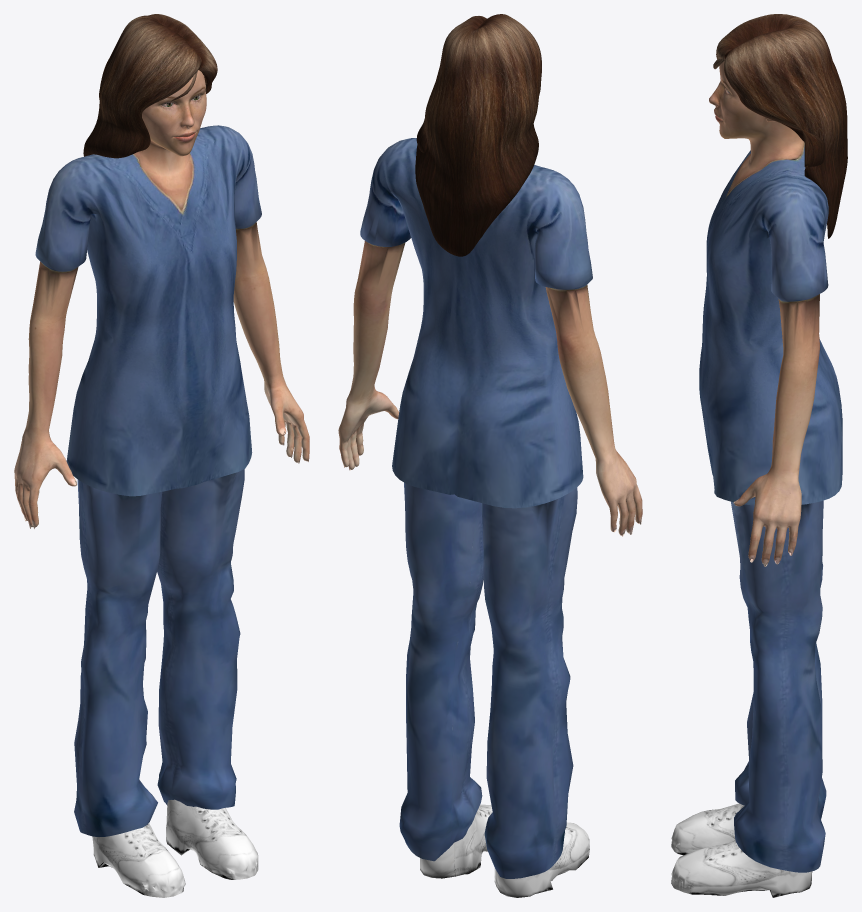
File: ORBIT-crew-member.glb
3 renders of one model, left to right at view 1: azimuth 30°, elevation 25°; view 2: azimuth 150°, elevation 25°; view 3: azimuth 270°, elevation 25°, orthographic. The views are drawn at different scales.
Visible parts, largest first — view 1: lower, torso, leftSleeve, h_wig, face, leftHand, leftLowerArm; view 2: lower, torso, h_wig, leftSleeve, leftHand, leftLowerArm; view 3: lower, leftSleeve, h_wig, torso, leftHand, face, leftLowerArm.
Part boxes in pixels (<box>): lower: <box>14,373,258,897</box>; torso: <box>28,139,241,409</box>; leftSleeve: <box>196,125,279,350</box>; h_wig: <box>83,14,217,158</box>; face: <box>142,70,206,156</box>; leftHand: <box>259,366,309,463</box>; leftLowerArm: <box>245,336,281,375</box>; lower: <box>392,373,642,897</box>; torso: <box>408,165,611,425</box>; h_wig: <box>415,14,541,256</box>; leftSleeve: <box>353,138,433,371</box>; leftHand: <box>338,381,399,470</box>; leftLowerArm: <box>351,356,381,395</box>; lower: <box>671,367,842,897</box>; leftSleeve: <box>706,163,828,441</box>; h_wig: <box>713,14,847,238</box>; torso: <box>699,145,834,416</box>; leftHand: <box>733,456,801,566</box>; face: <box>709,61,804,155</box>; leftLowerArm: <box>771,424,807,470</box>.
Bounding box in the file's own units: 0.6074 × 1.73 × 0.3254.
Materials: 2 (2 with a texture image).
